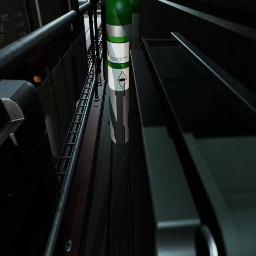0: (106, 0, 132, 145), (129, 0, 140, 50)
NitrogenTank ,: (100, 0, 108, 83)
